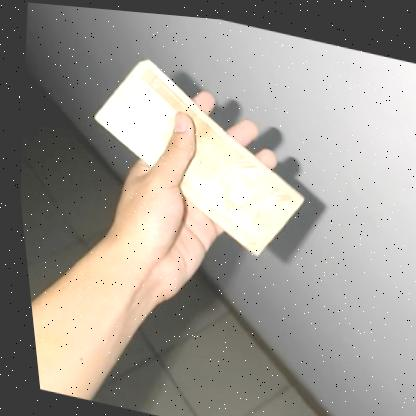twenty-back-vef: (70, 43, 322, 264)
